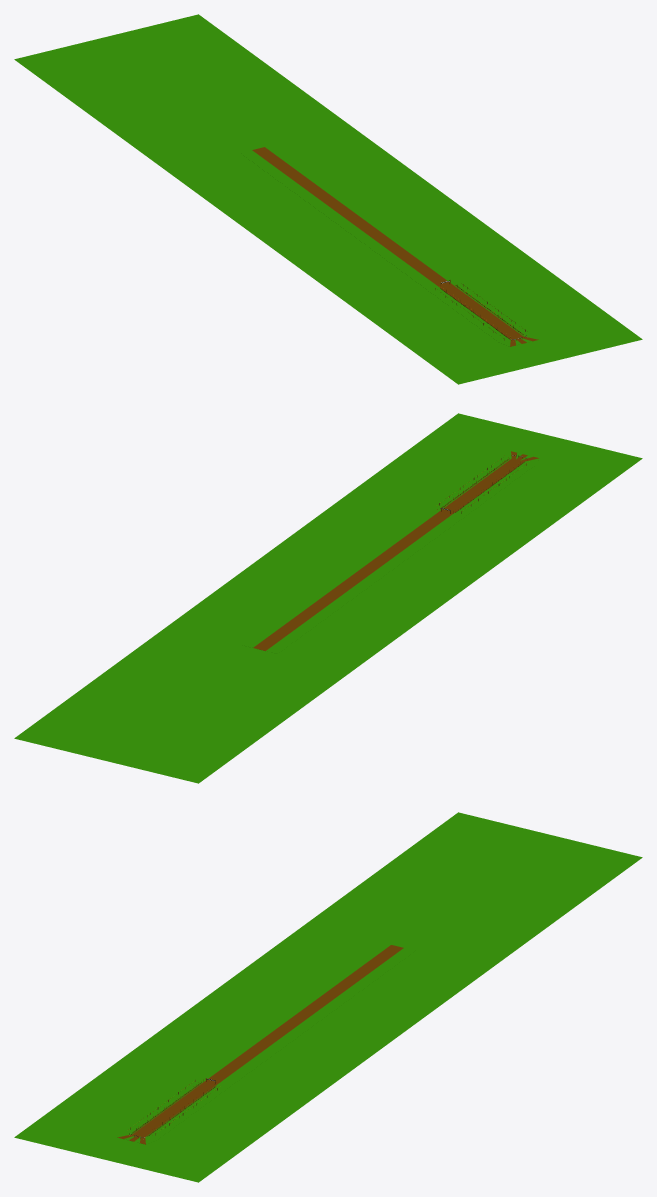
File: Arena New.fbx
3 views of the same model, one above another, from view 1: azimuth 30°, elevation 25°; view 2: azimuth 150°, elevation 25°; view 3: azimuth 330°, elevation 25° (orthographic).
Parts seen in each view (by area): view 1: Plane.004, Cube.004; view 2: Plane.004, Cube.004; view 3: Plane.004, Cube.004.
Boxes of the visible parts, left/top/right/bottom form: Plane.004: left=14, top=14, right=642, bottom=384; Cube.004: left=240, top=144, right=538, bottom=346; Plane.004: left=14, top=413, right=642, bottom=783; Cube.004: left=241, top=451, right=539, bottom=653; Plane.004: left=14, top=812, right=642, bottom=1182; Cube.004: left=117, top=942, right=415, bottom=1144.
Size of the model in its own units: 43609 by 1706 by 181705.
